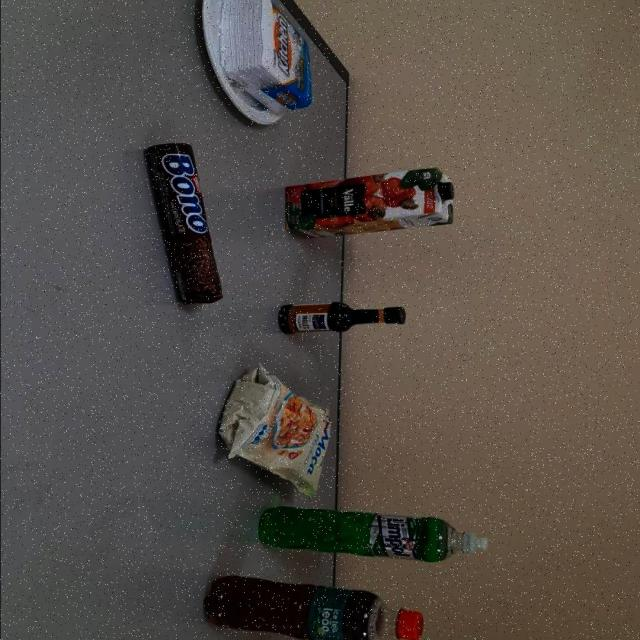Cleaner: (254, 506, 486, 564)
Cookies: (142, 142, 220, 308)
CornFlakes: (214, 366, 327, 494)
EnglishSauce: (276, 300, 406, 335)
IceTea: (200, 576, 421, 640)
